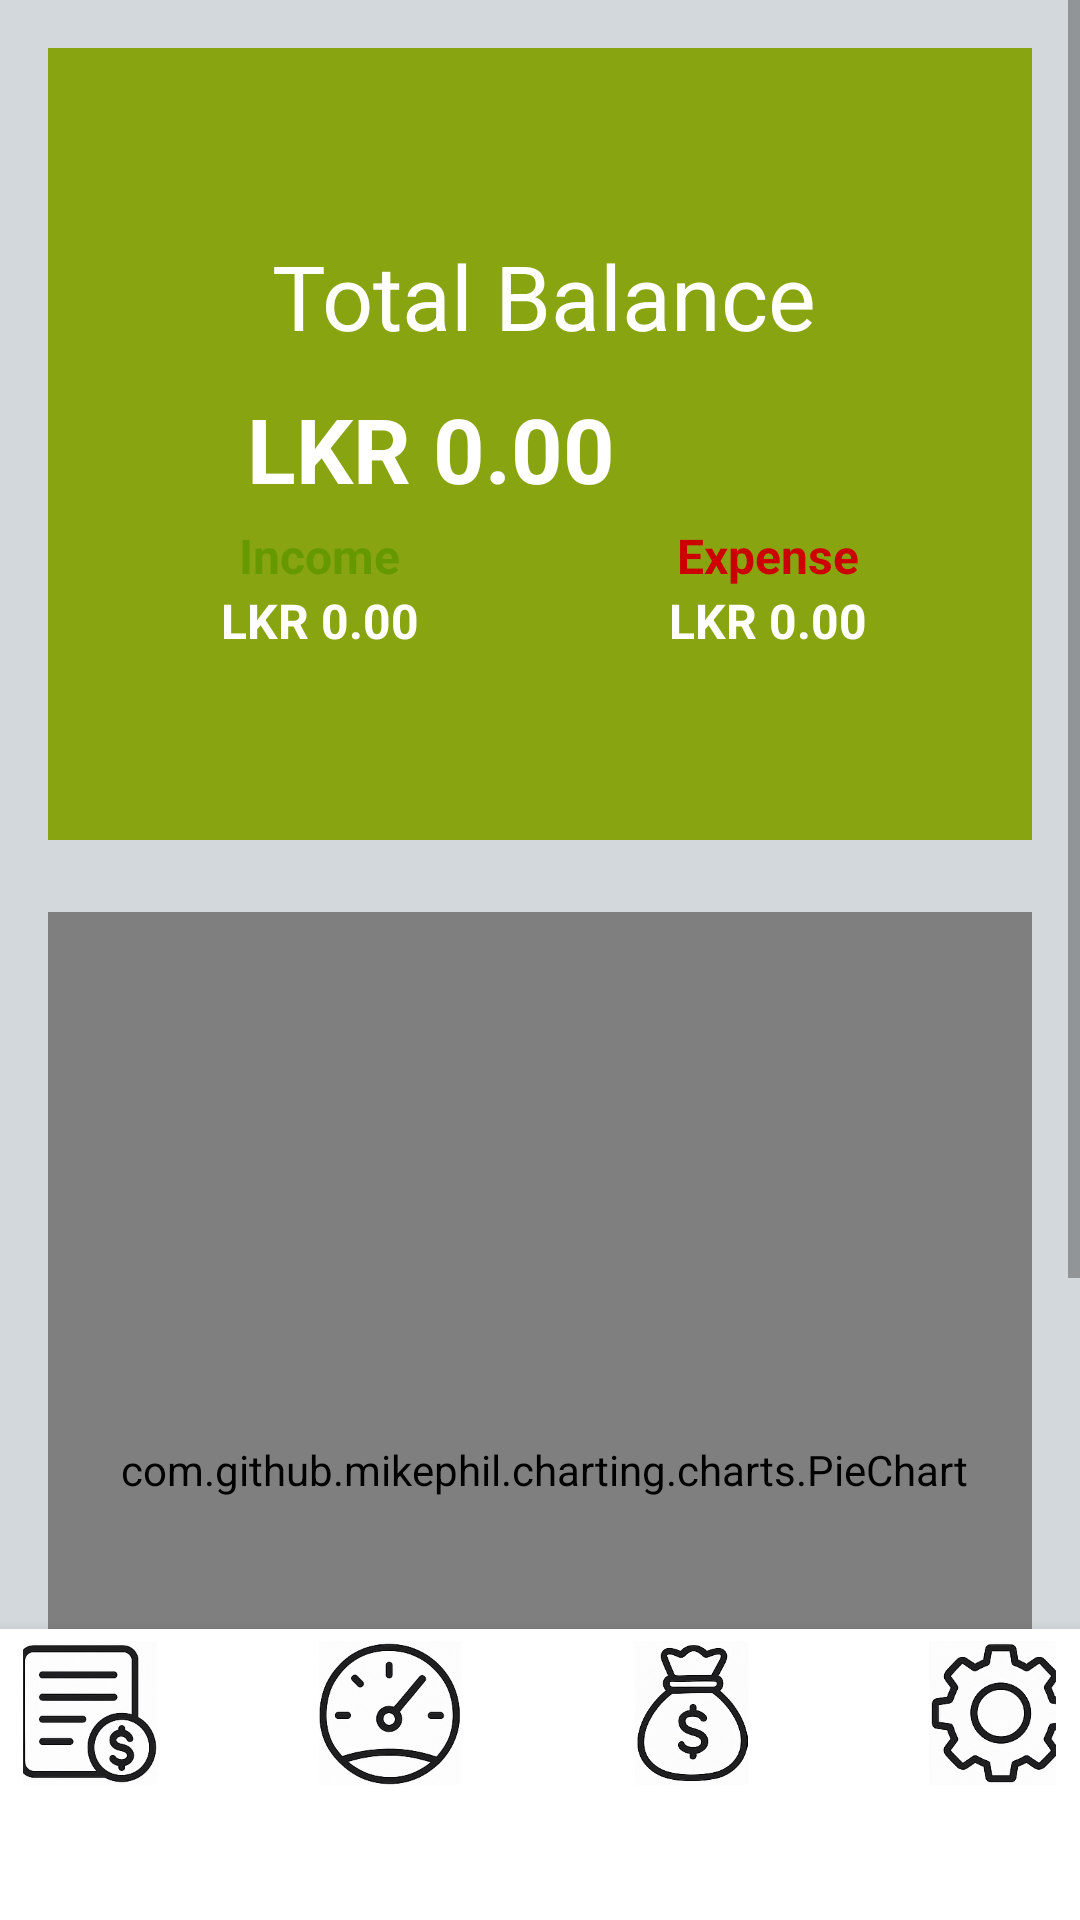

Icon click points for this 1080w x 1920h phone screenshot, format point (x, y):
Budget: point (692, 1713)
Dashboard: point (389, 1714)
Setting: point (993, 1713)
Transaction: point (90, 1714)
